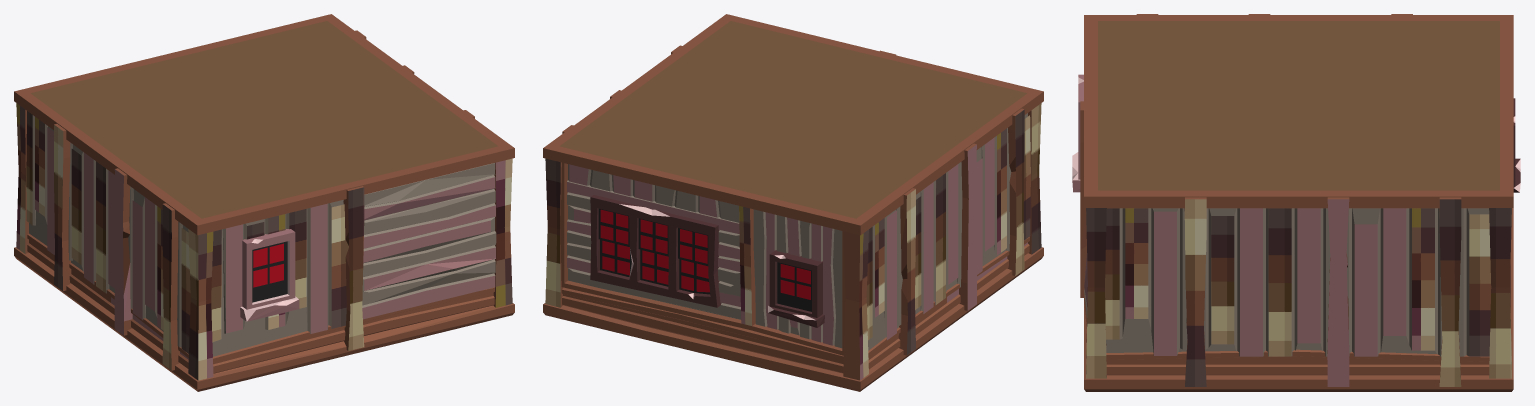
File: SM_Bld_Shanty_Room_01.glb
3 renders of one model, left to right at view 1: azimuth 30°, elevation 25°; view 2: azimuth 150°, elevation 25°; view 3: azimuth 270°, elevation 25°, orthographic. The views are drawn at different scales.
Parts seen in each view (by area): view 1: SM_Bld_Shanty_Room_01_00; view 2: SM_Bld_Shanty_Room_01_00; view 3: SM_Bld_Shanty_Room_01_00.
Part boxes in pixels (<box>): SM_Bld_Shanty_Room_01_00: <box>14,14,514,391</box>; SM_Bld_Shanty_Room_01_00: <box>543,14,1043,391</box>; SM_Bld_Shanty_Room_01_00: <box>1072,14,1520,391</box>.
Bounding box in the file's own units: 5.1 × 2.52 × 5.22.
Materials: 1 (1 with a texture image).
